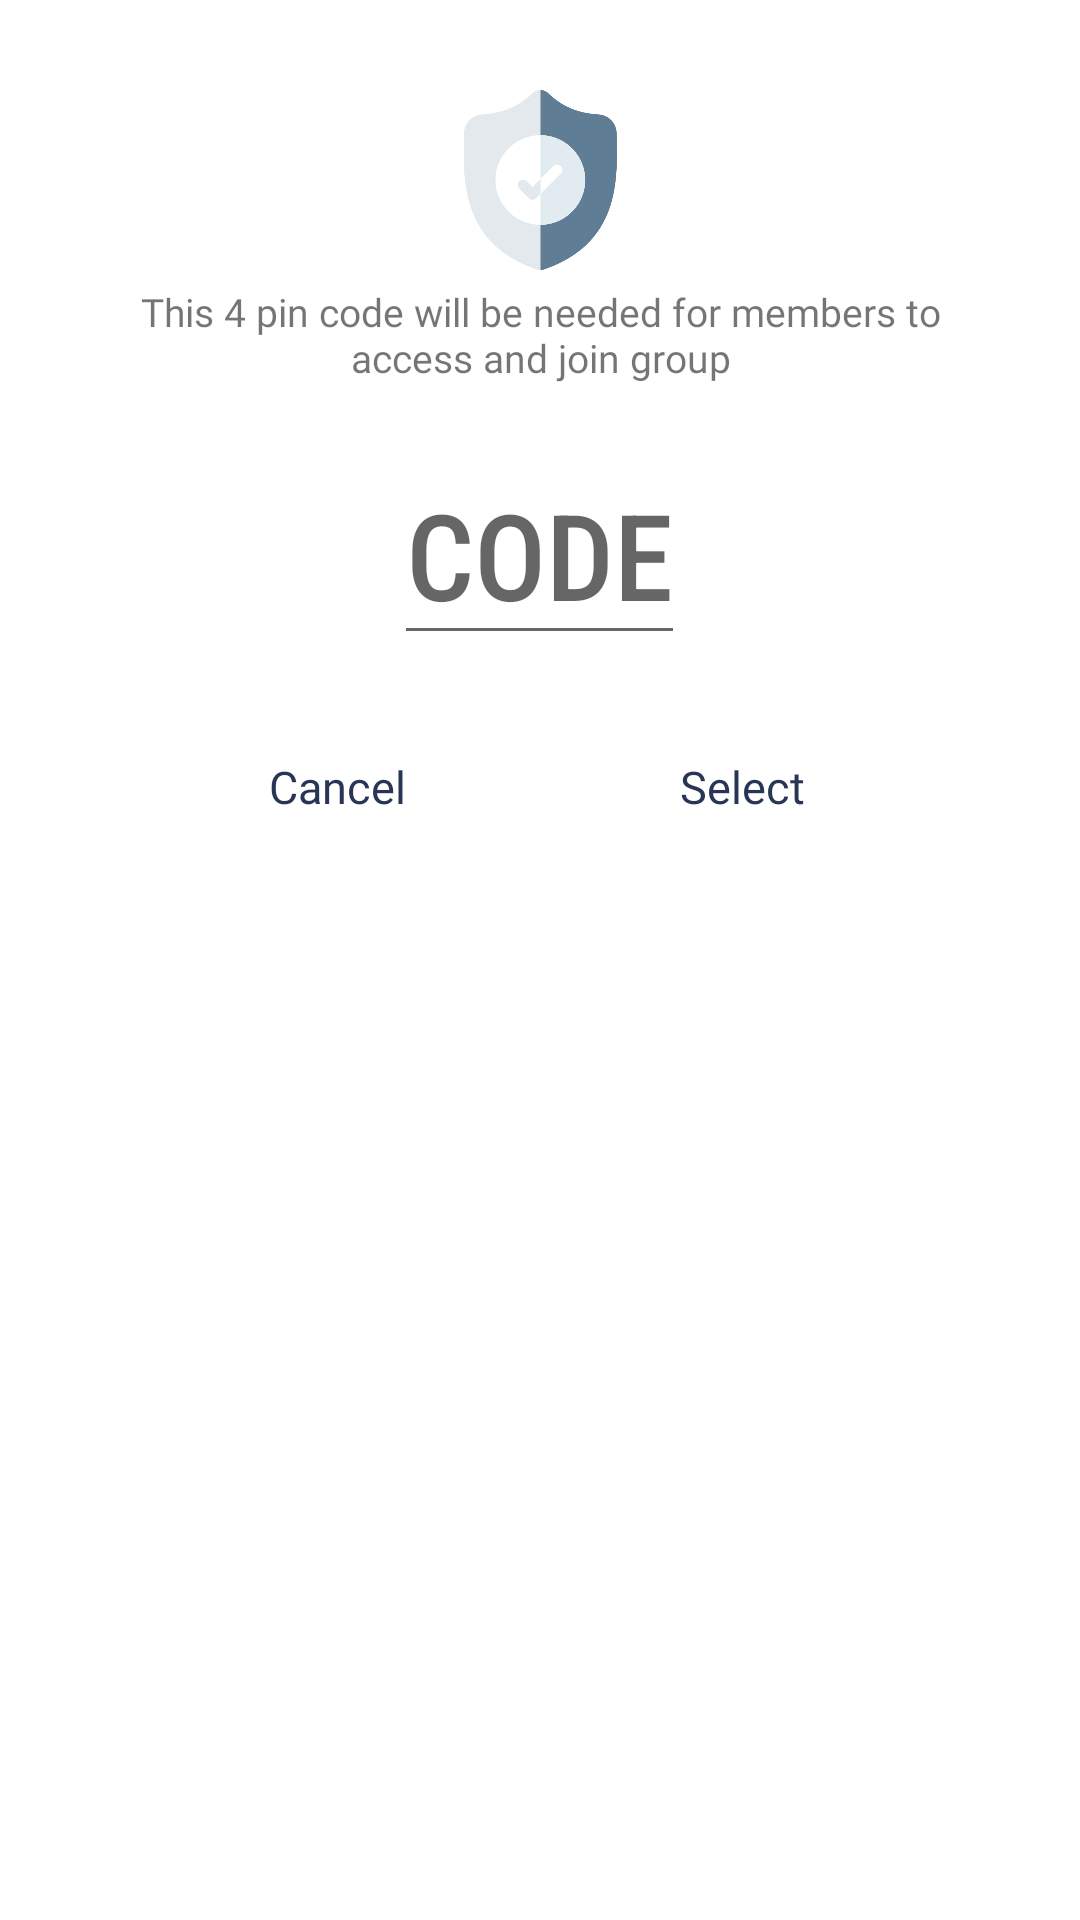

Where icons sit on this 1080w x 1920h app screen, as box(x1, y1, x2, y2):
shield: box(464, 90, 617, 270)
